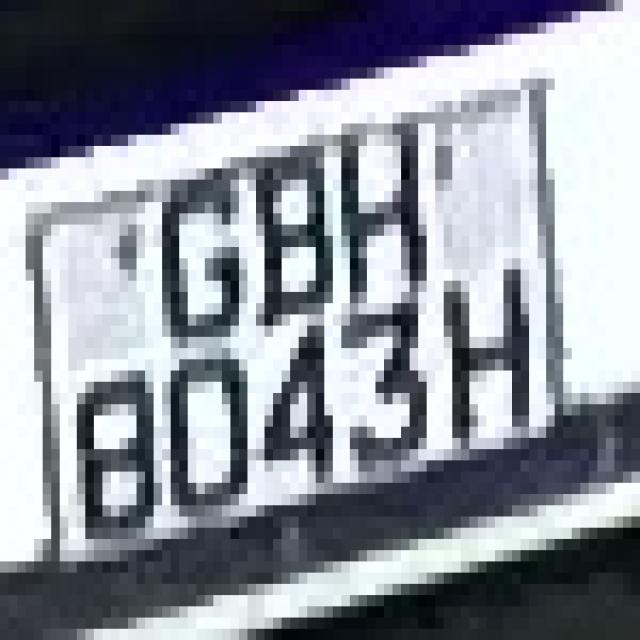0: (162, 326, 256, 505)
3: (299, 292, 435, 472)
4: (222, 303, 341, 528)
8: (68, 348, 162, 550)
B: (222, 112, 341, 337)
G: (137, 146, 256, 370)
H: (418, 236, 555, 483), (316, 90, 444, 326)
